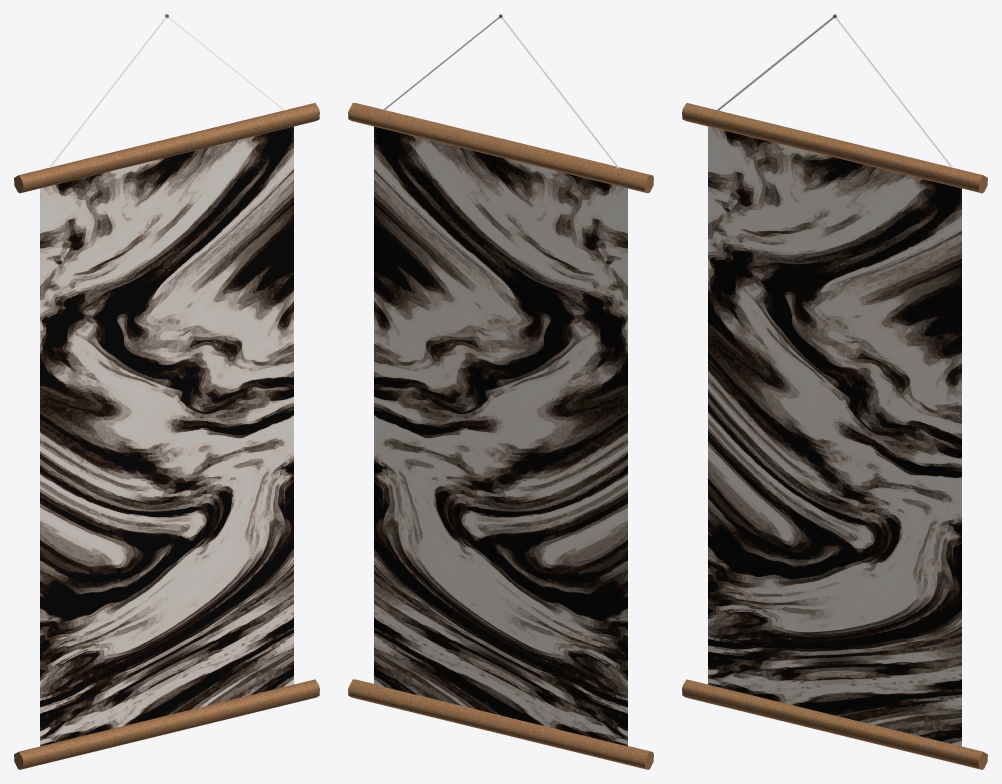
Rendered from Scroll.fbx.
The picture shows the model from 3 angles, left to right: view 1: azimuth 30°, elevation 25°; view 2: azimuth 150°, elevation 25°; view 3: azimuth 330°, elevation 25°; orthographic projection.
Parts seen in each view (by area): view 1: kakeziku, kakeCylinder2, kakeCylinder1, kakeCylinder4; view 2: kakeziku, kakeCylinder1, kakeCylinder2, kakeCylinder4; view 3: kakeziku, kakeCylinder2, kakeCylinder1, kakeCylinder4.
Boxes of the visible parts, box(x1,y1,x2,y2) form: kakeziku: box(40, 126, 293, 746); kakeCylinder2: box(14, 679, 319, 769); kakeCylinder1: box(14, 103, 319, 193); kakeCylinder4: box(49, 17, 284, 167); kakeziku: box(374, 126, 627, 746); kakeCylinder1: box(348, 103, 653, 193); kakeCylinder2: box(348, 679, 653, 769); kakeCylinder4: box(383, 17, 618, 168); kakeziku: box(708, 126, 961, 746); kakeCylinder2: box(682, 679, 987, 769); kakeCylinder1: box(682, 103, 987, 193); kakeCylinder4: box(717, 17, 952, 167).
Size of the model in its own units: 770 by 1782 by 41.85.
1 material, 1 textured.
